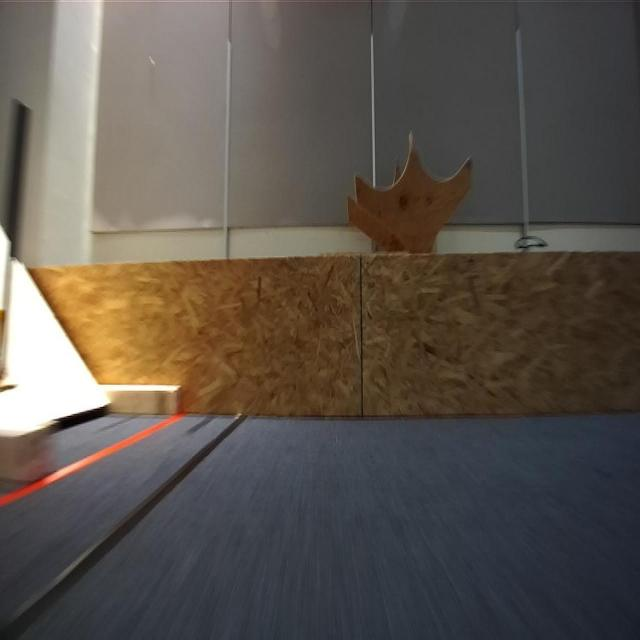frc_cone: (0, 298, 20, 418)
